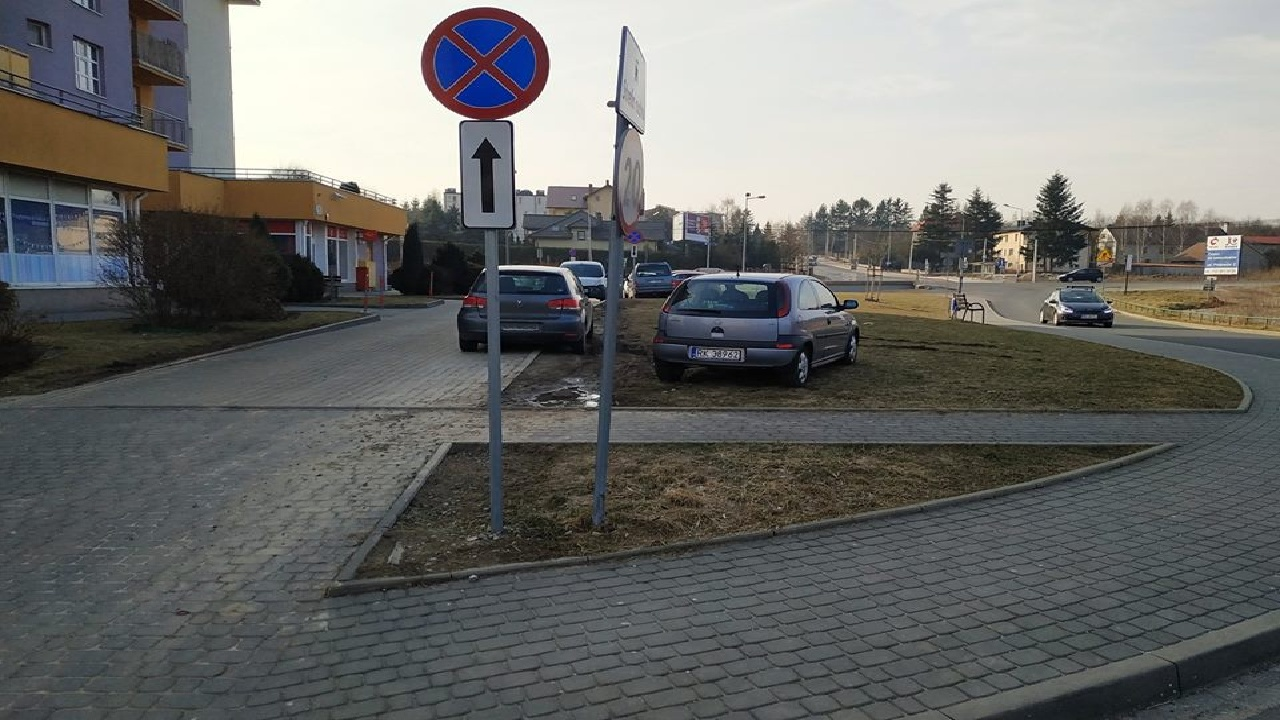B35: (410, 5, 559, 118)
